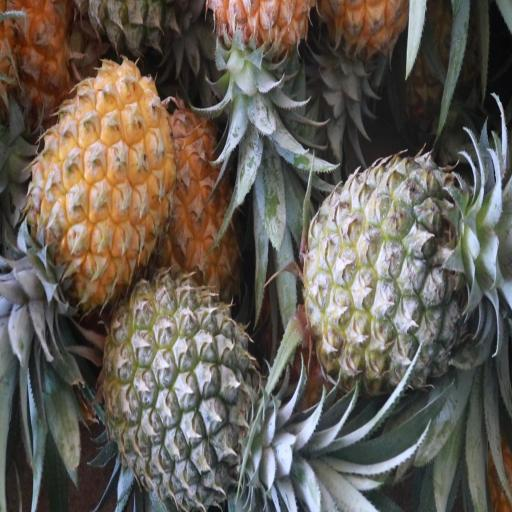Pineapple - v8 v1: (30, 62, 177, 306), (162, 110, 246, 306)
